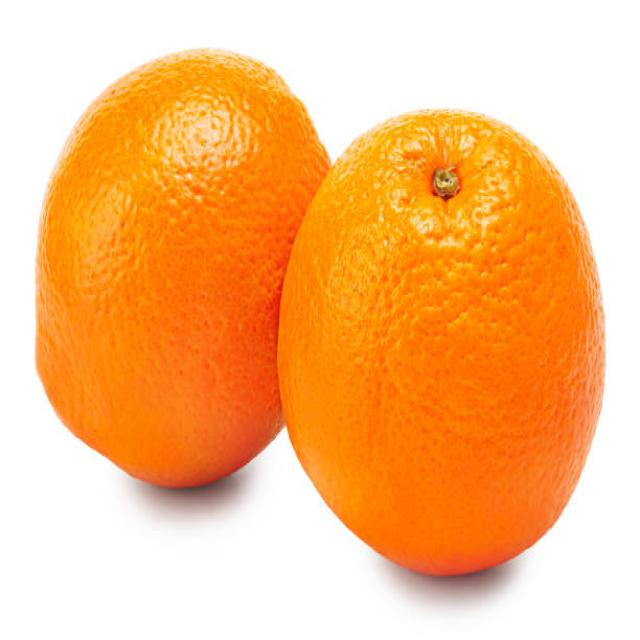Ripe: (276, 96, 609, 581), (32, 39, 286, 496)
